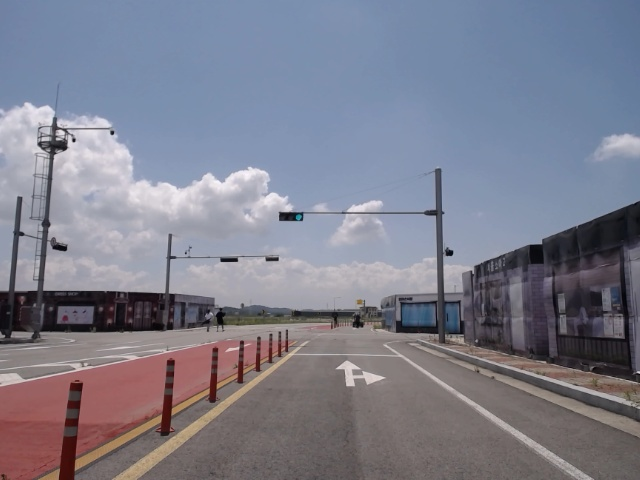green_3: (279, 211, 303, 221)
